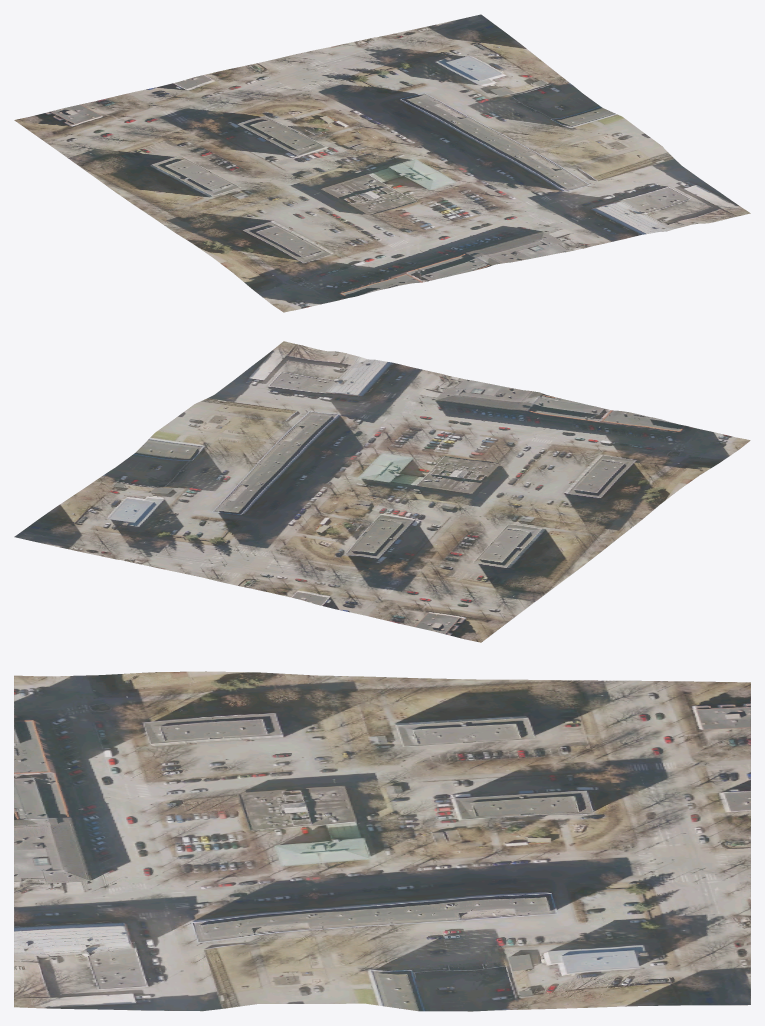
File: CM_Terrain_24486363_6821022.fbx
3 views of the same model, one above another, from view 1: azimuth 30°, elevation 25°; view 2: azimuth 150°, elevation 25°; view 3: azimuth 270°, elevation 25° (orthographic). The views are drawn at different scales.
Parts seen in each view (by area): view 1: CM_Terrain_24486363_6821022_LOD0; view 2: CM_Terrain_24486363_6821022_LOD0; view 3: CM_Terrain_24486363_6821022_LOD0.
Part boxes in pixels (x1,y1,x2,y2): CM_Terrain_24486363_6821022_LOD0: (14, 14, 750, 312); CM_Terrain_24486363_6821022_LOD0: (14, 341, 750, 642); CM_Terrain_24486363_6821022_LOD0: (14, 671, 750, 1011).
Size of what is drawn, in the model's own units: 205 by 8.76 by 205.
